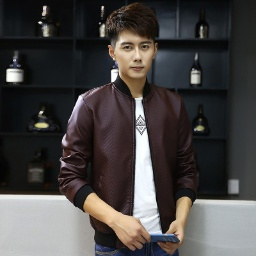face: (105, 5, 161, 81)
